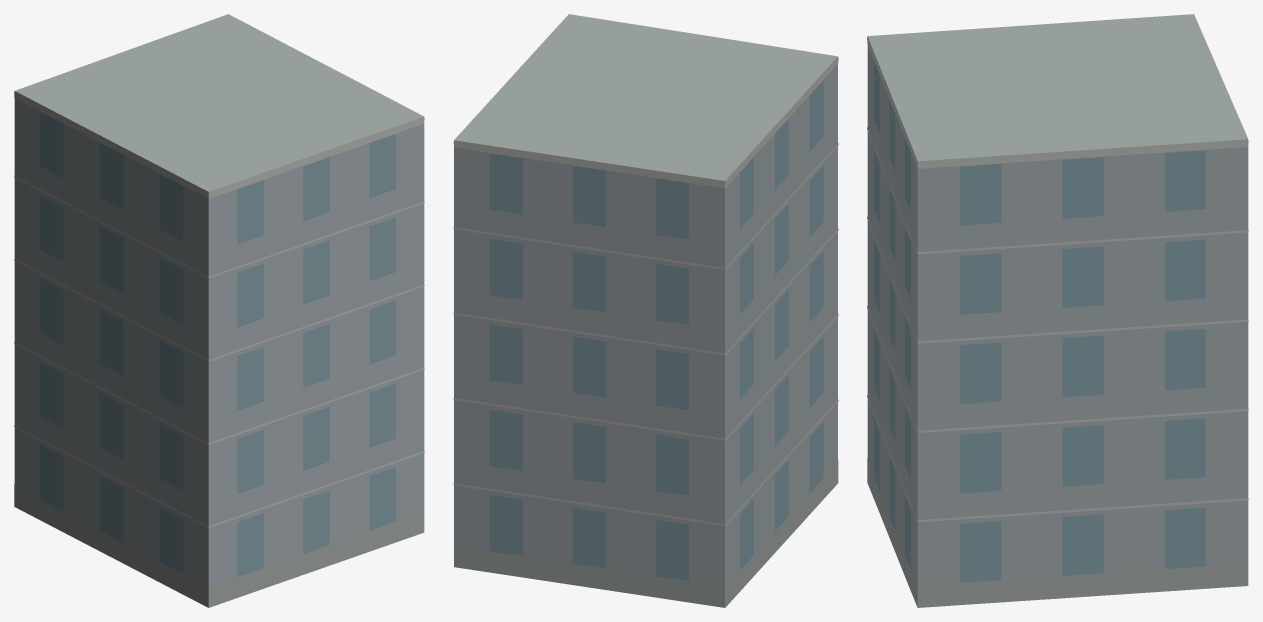
Rendered from survey-upis-32798293.glb.
3 views of the same model, side by side, from view 1: azimuth 30°, elevation 25°; view 2: azimuth 150°, elevation 25°; view 3: azimuth 270°, elevation 25° (orthographic). The views are drawn at different scales.
Parts seen in each view (by area): view 1: survey-upis-32798293.tmp; view 2: survey-upis-32798293.tmp; view 3: survey-upis-32798293.tmp.
Part boxes in pixels (x1,y1,x2,y2): survey-upis-32798293.tmp: [14, 14, 424, 607]; survey-upis-32798293.tmp: [453, 14, 838, 607]; survey-upis-32798293.tmp: [867, 14, 1248, 607].
Bounding box in the file's own units: 10.07 × 14.2 × 11.
